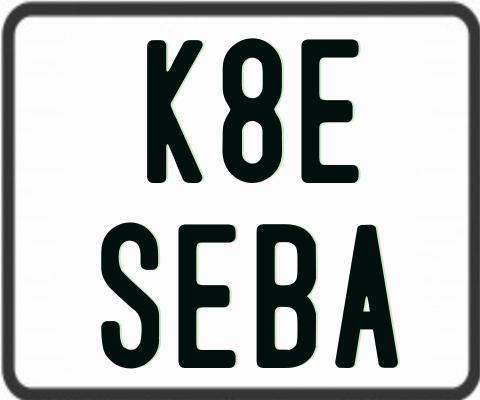8: (221, 36, 284, 184)
A: (332, 224, 397, 372)
B: (255, 224, 315, 369)
E: (177, 221, 240, 368), (299, 39, 359, 188)
K: (145, 40, 201, 185)
S: (98, 222, 157, 370)
